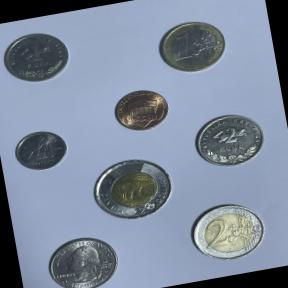coin: (83, 151, 181, 228), (184, 197, 272, 268), (148, 9, 235, 80), (186, 104, 274, 174), (38, 229, 126, 288), (106, 82, 176, 136), (7, 124, 75, 176)
